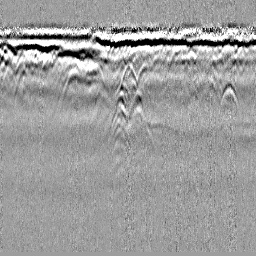cavity: (118, 60, 139, 89)
